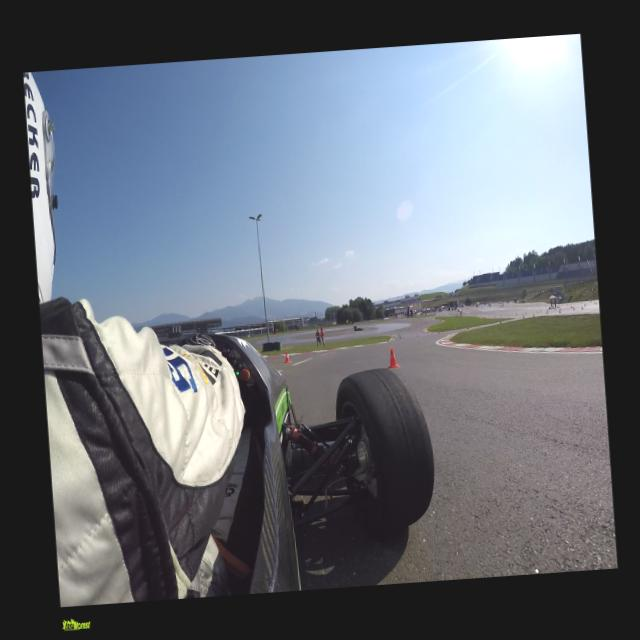orange_cone: (386, 347, 400, 368), (282, 351, 290, 362)
